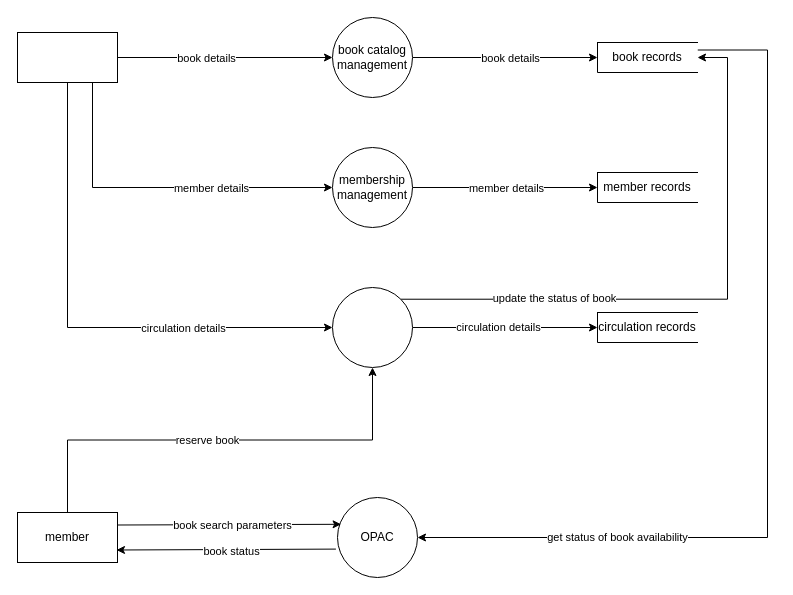
Some shapes in this 793 by 595 pixel diagram are drawn without their labels. The centre of each missing label's shape, as x and y in pixels:
circulation management: point (372, 327)
Librarian: point (67, 57)
